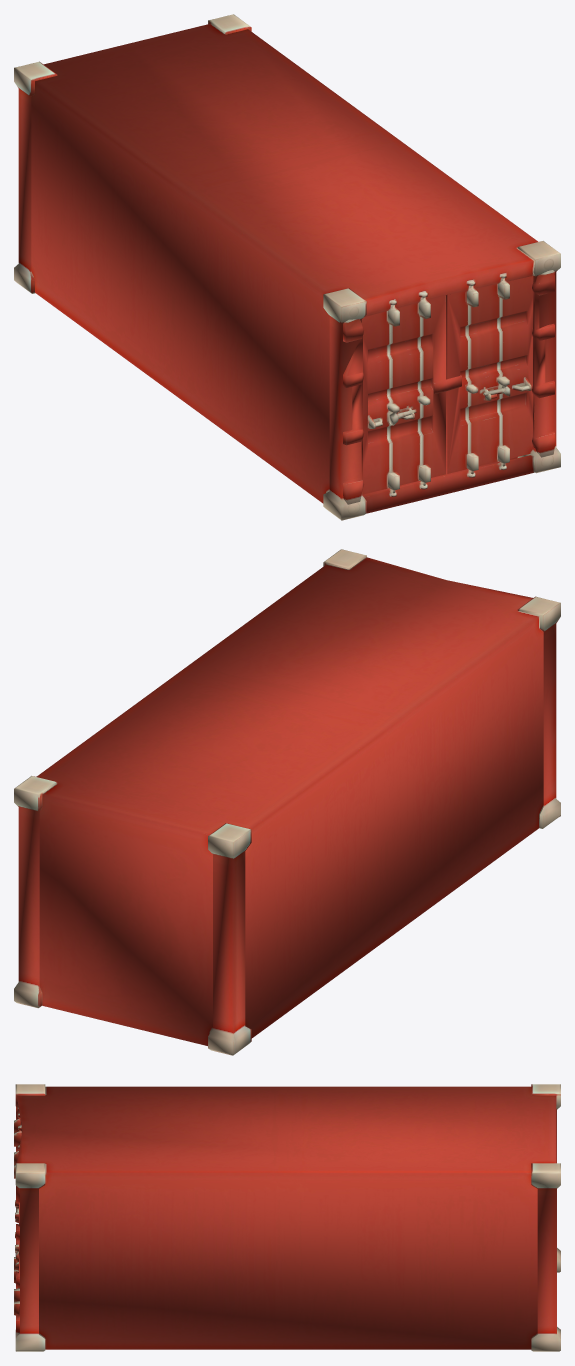
File: cs_container_40.glb
The picture shows the model from 3 angles, top to bottom: view 1: azimuth 30°, elevation 25°; view 2: azimuth 150°, elevation 25°; view 3: azimuth 270°, elevation 25°; orthographic projection. The views are drawn at different scales.
Parts seen in each view (by area): view 1: cs_container_40; view 2: cs_container_40; view 3: cs_container_40.
Part boxes in pixels (<box>): cs_container_40: <box>14,14,560,520</box>; cs_container_40: <box>14,549,560,1055</box>; cs_container_40: <box>14,1084,560,1351</box>.
Bounding box in the file's own units: 0.3862 × 0.3618 × 0.9995.
1 material, 1 textured.
